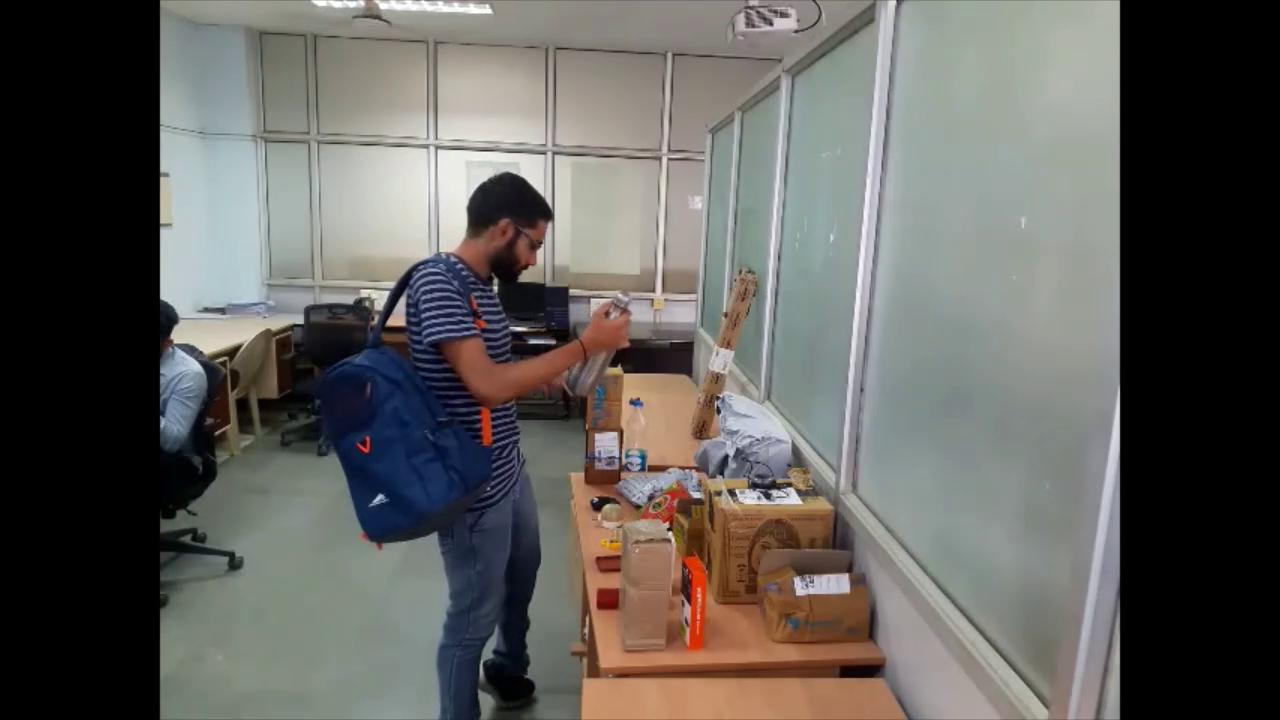Normal: (318, 159, 635, 720)
